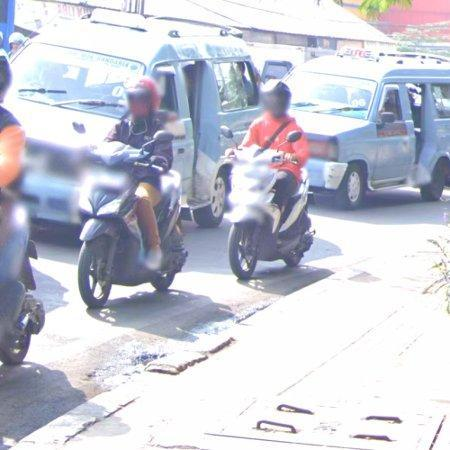motorcycles: (78, 133, 188, 309), (229, 147, 315, 279)
